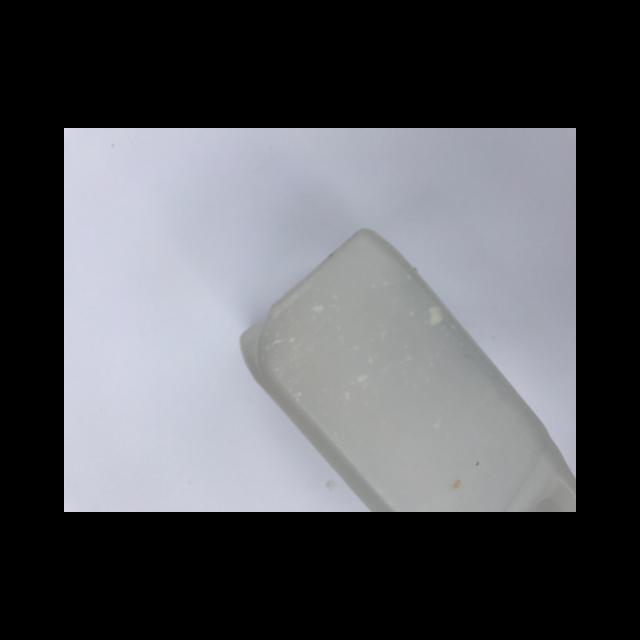plastic: (238, 227, 575, 511)
